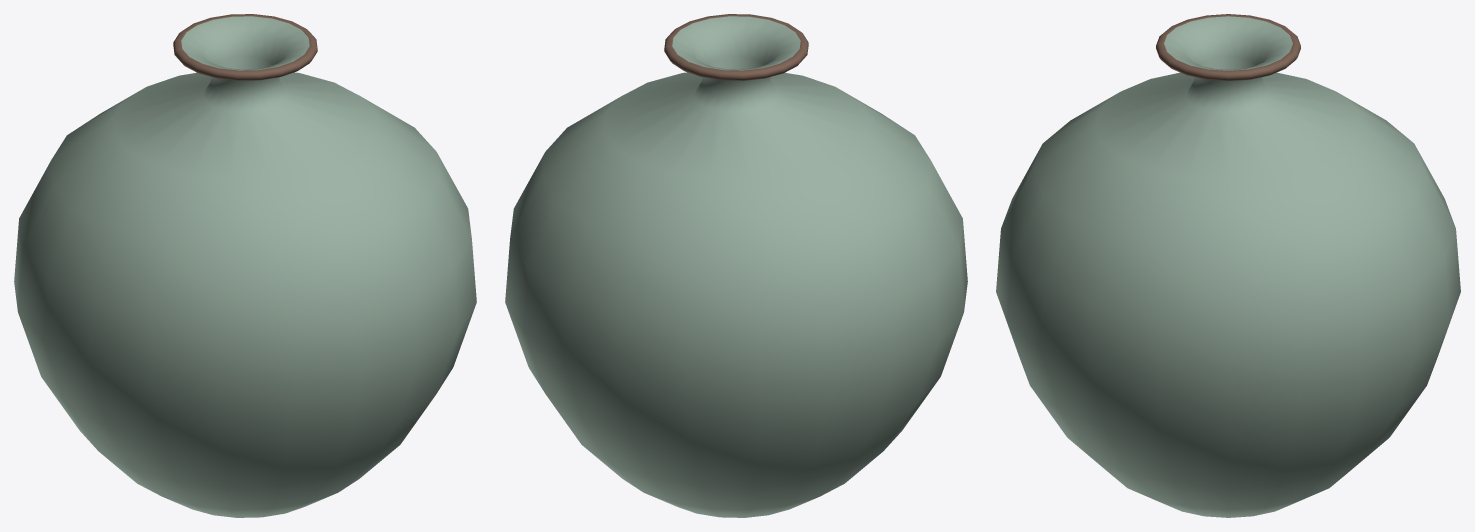
File: LWY31.FBX
3 views of the same model, side by side, from view 1: azimuth 30°, elevation 25°; view 2: azimuth 150°, elevation 25°; view 3: azimuth 270°, elevation 25° (orthographic).
Parts seen in each view (by area): view 1: LWY31; view 2: LWY31; view 3: LWY31.
Boxes of the visible parts, x1,y1,x2,y2 form: LWY31: [14, 14, 476, 517]; LWY31: [505, 14, 967, 517]; LWY31: [996, 14, 1460, 517].
Size of the model in its own units: 24.02 by 24.02 by 25.13.
